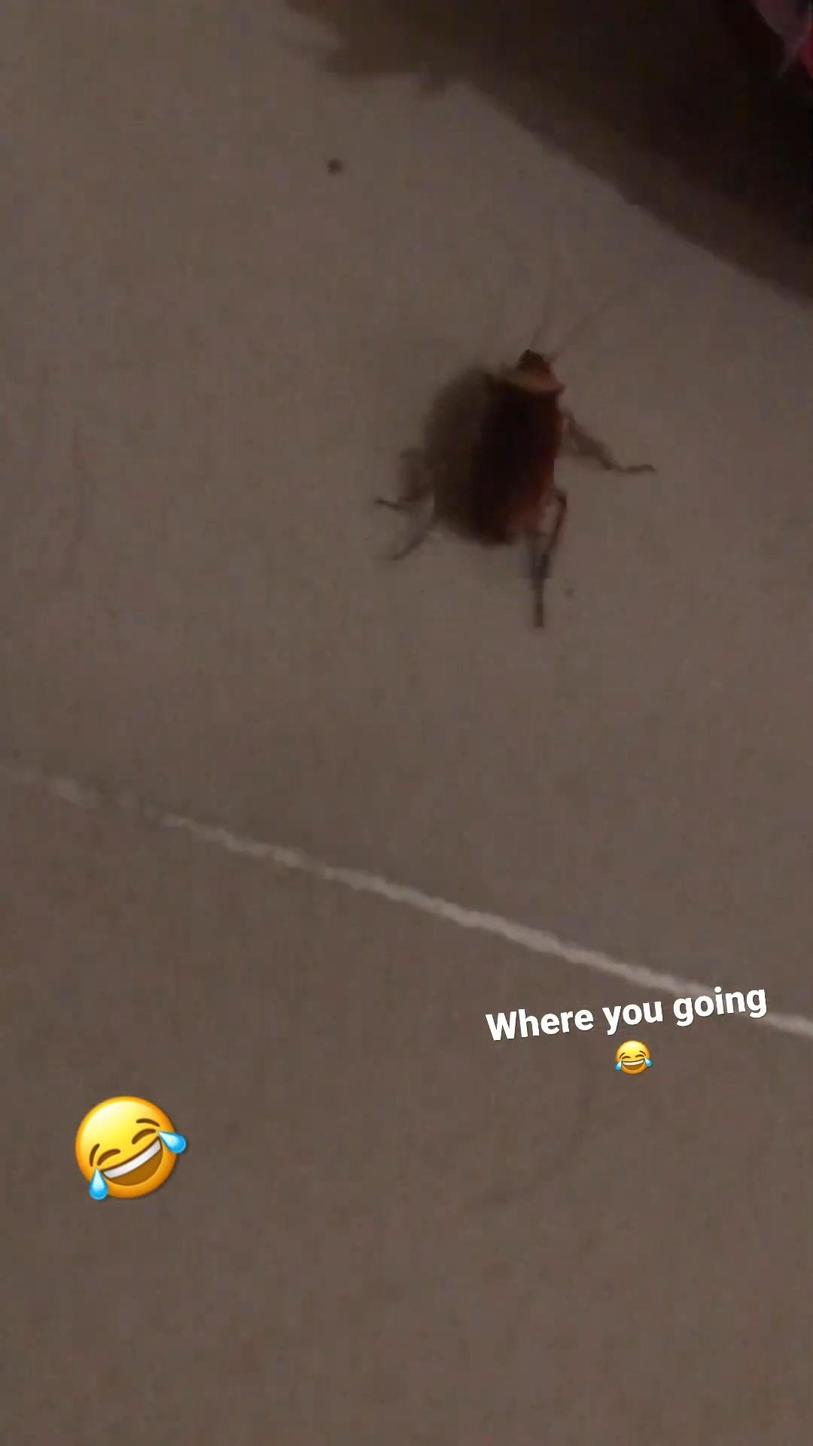cockroach: (377, 310, 610, 603)
